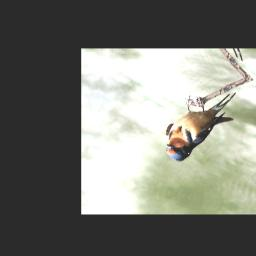Swallow: (159, 79, 237, 172)
